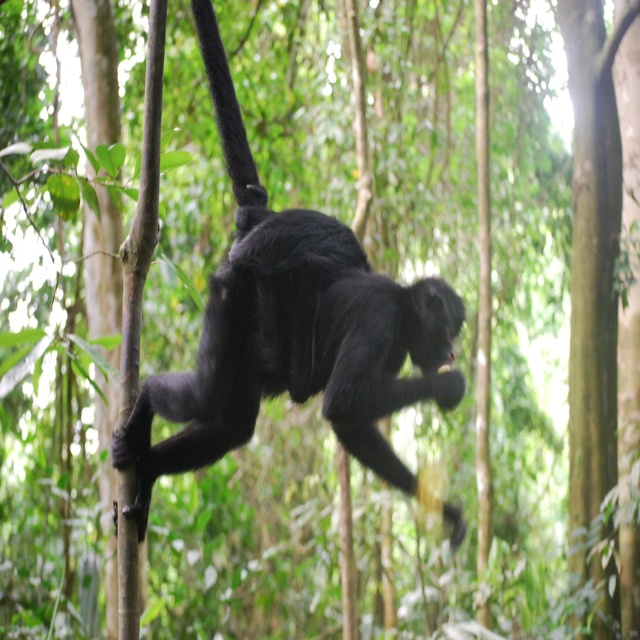Monkey: (109, 0, 465, 543)
